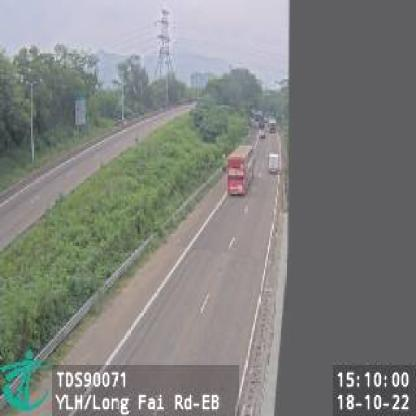Bus: (228, 143, 258, 197)
Car: (267, 152, 280, 176)
